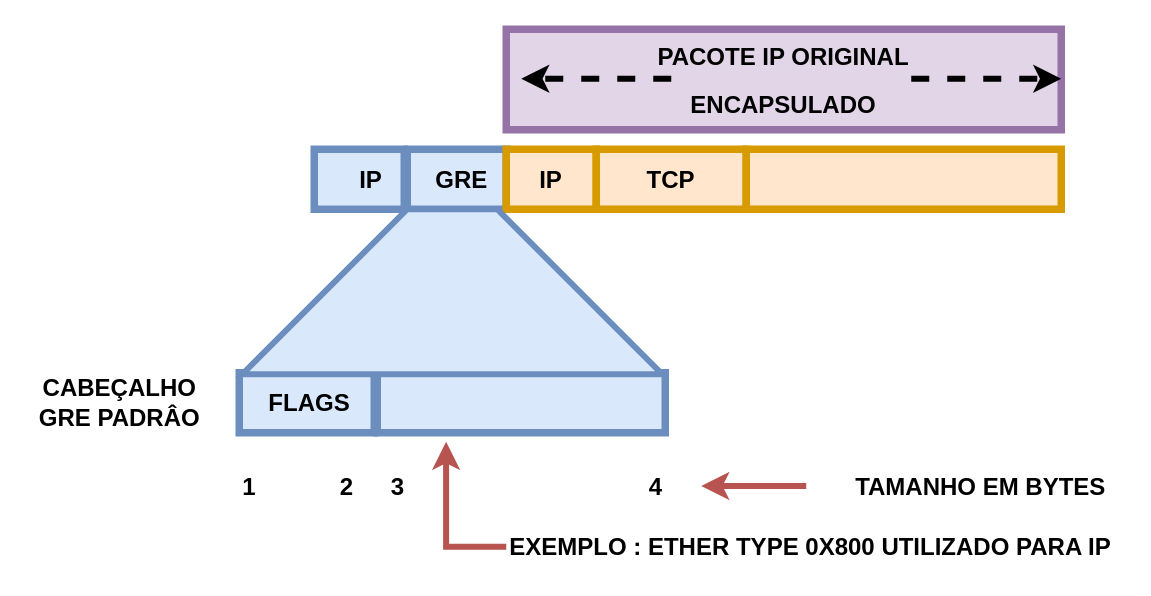
The diagram is 1151 pixels wide and 596 high, and some of its shapes have lost their labels. Here are the shapes that lost their labels. From the top down, the centre of each, then its label:
At (903,178): "DATA".
At (520,402): "TIPOS DE PROTOCOLO".
